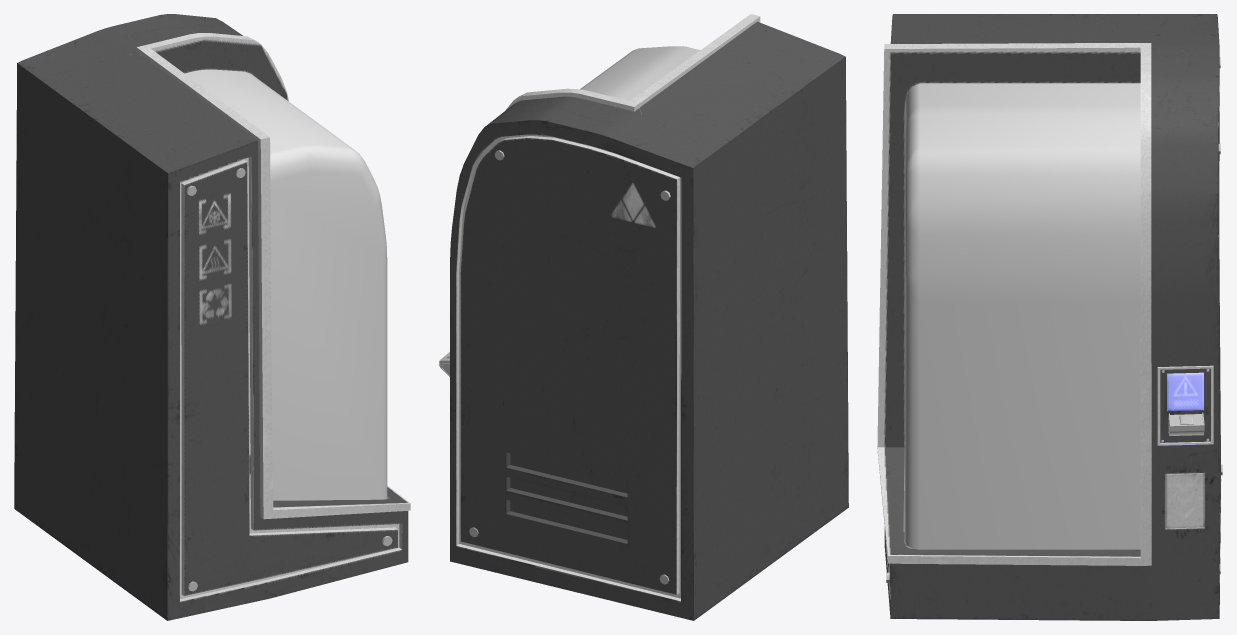
Rendered from VendingMachine.fbx.
3 renders of one model, left to right at view 1: azimuth 30°, elevation 25°; view 2: azimuth 150°, elevation 25°; view 3: azimuth 270°, elevation 25°, orthographic. The views are drawn at different scales.
Visible parts, largest first — view 1: VendingMachine; view 2: VendingMachine; view 3: VendingMachine.
Part boxes in pixels (box(x1,y1,x2,y2)): VendingMachine: box(14, 14, 410, 620); VendingMachine: box(439, 14, 848, 620); VendingMachine: box(877, 14, 1222, 620).
Bounding box in the file's own units: 98.2 × 167 × 105.
